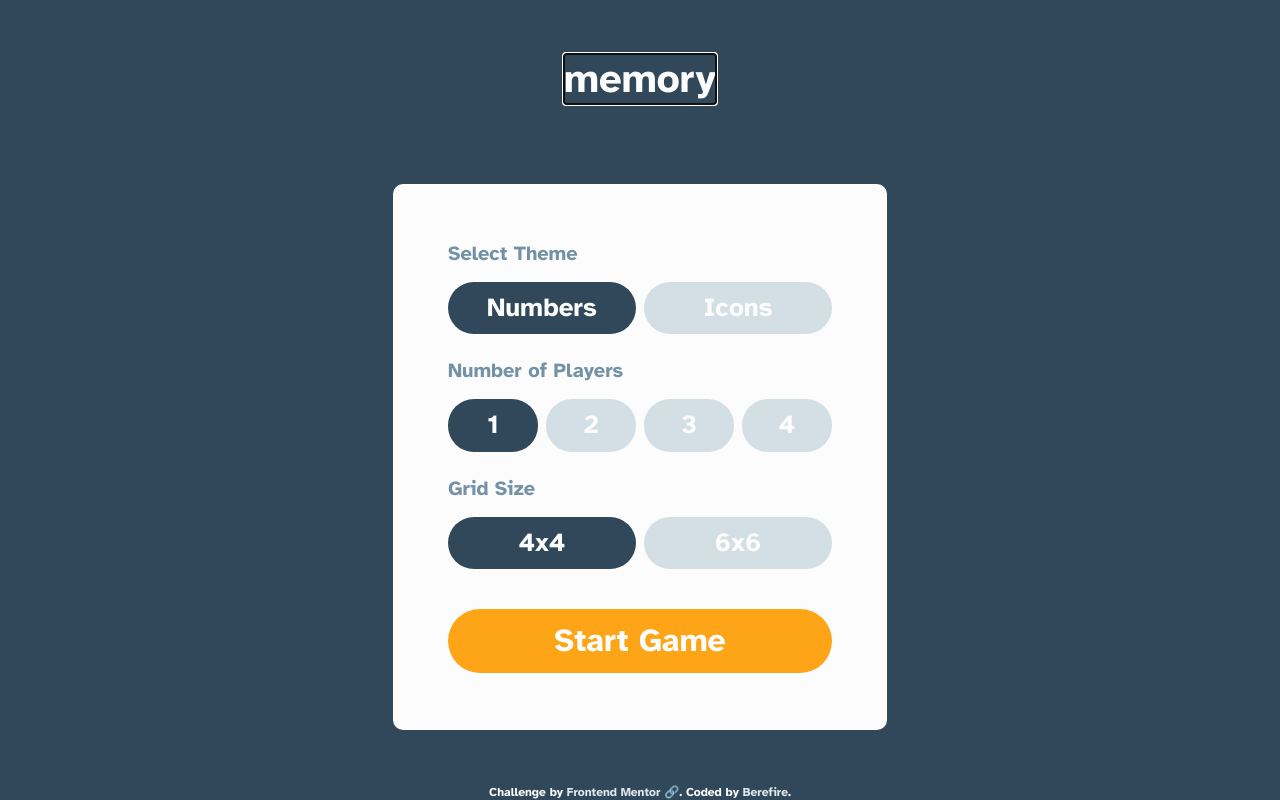
Test: App (integration, real pages) › starts a 6x6 game with the correct number of cards when 6x6 is selected
The width and height of the screenshot is (1280, 800).
Click the radio button labelled "6x6" at (738, 543), box [644,517,832,569]
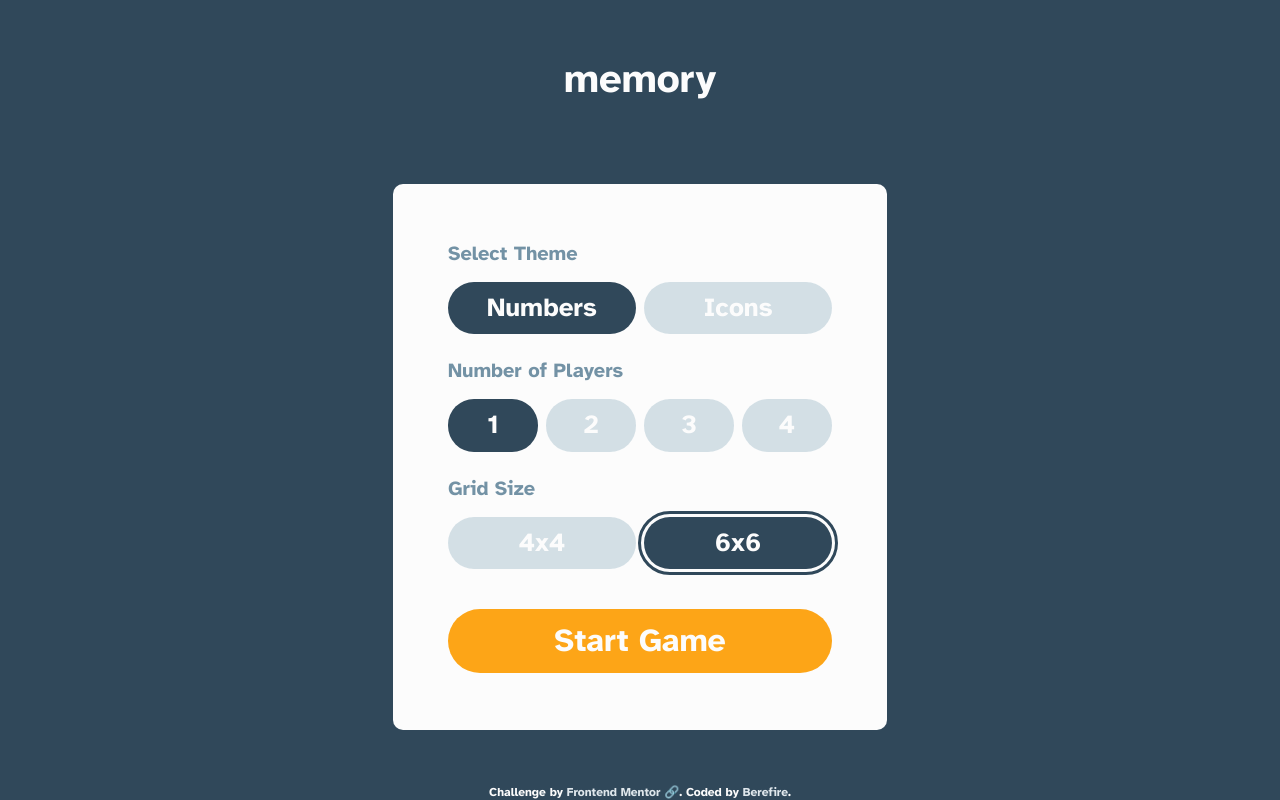
Click the button "Start Game" at (640, 641), box [448,609,832,673]
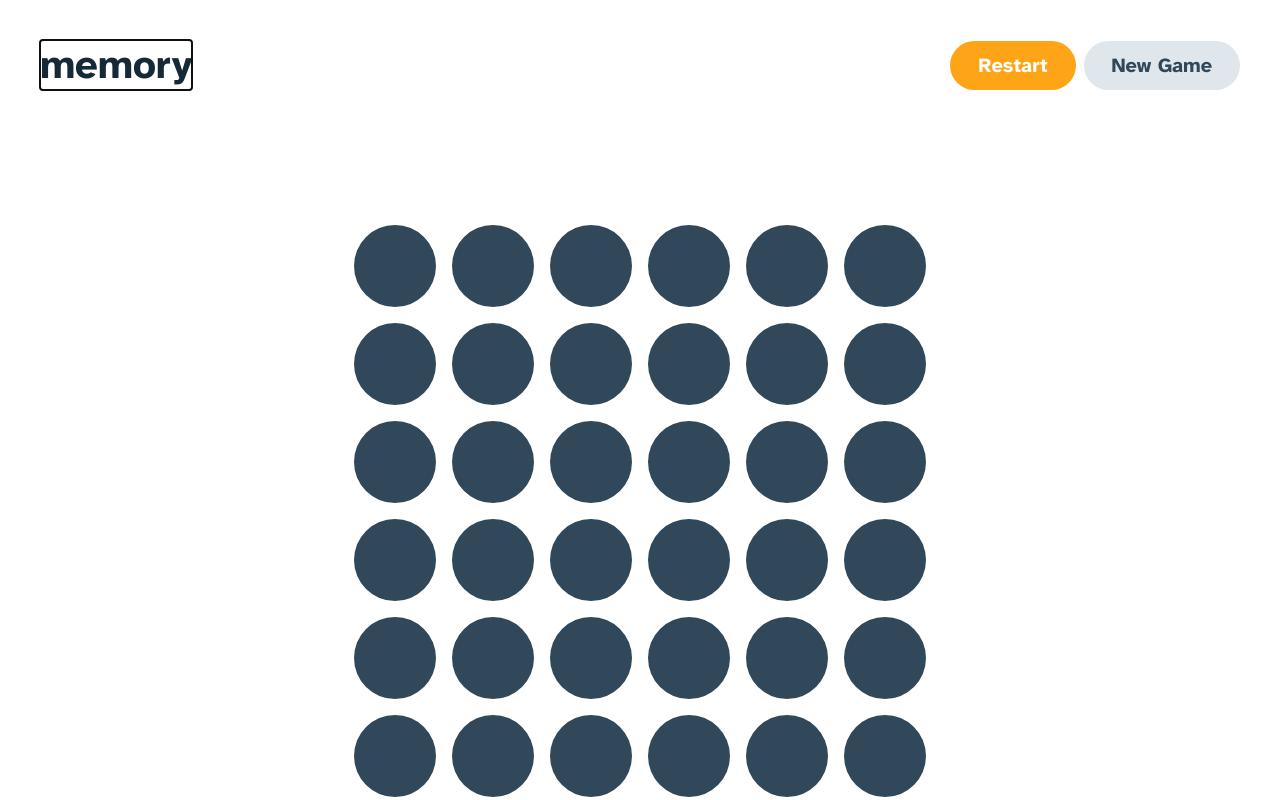
Now the number of buttons "11" is 36
